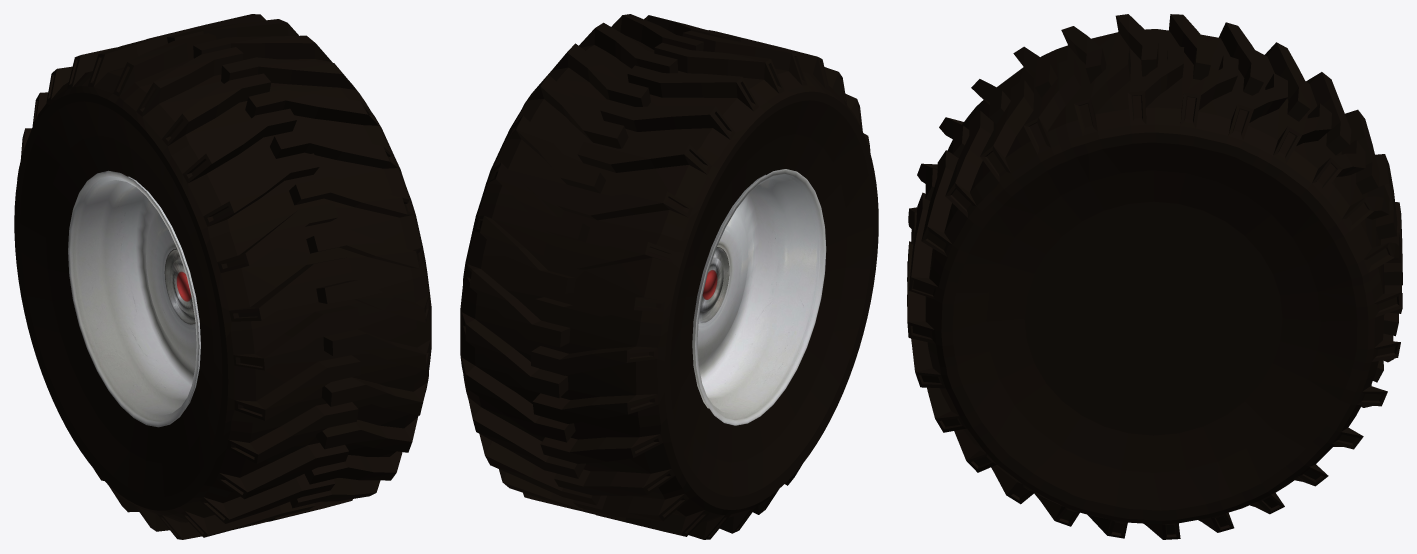
Rendered from шина.glb.
3 views of the same model, side by side, from view 1: azimuth 30°, elevation 25°; view 2: azimuth 150°, elevation 25°; view 3: azimuth 270°, elevation 25° (orthographic).
Size of the model in its own units: 0.9696 by 2.05 by 2.05.
2 materials, 1 textured.
